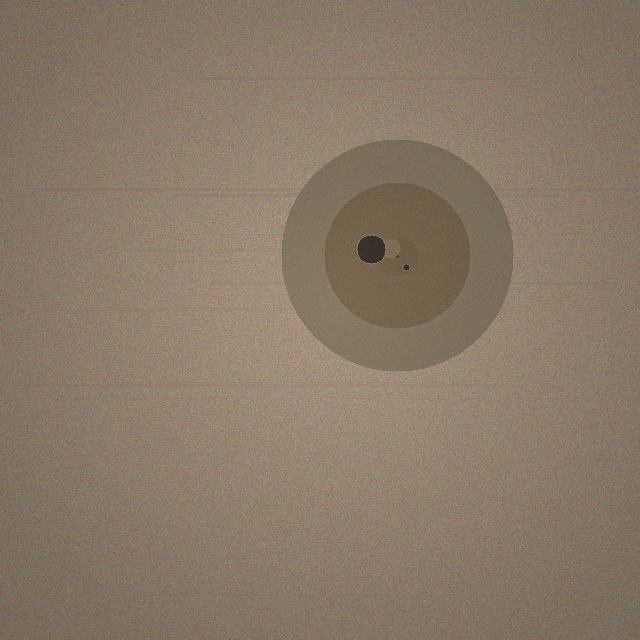shrinkage: (281, 139, 513, 371)
